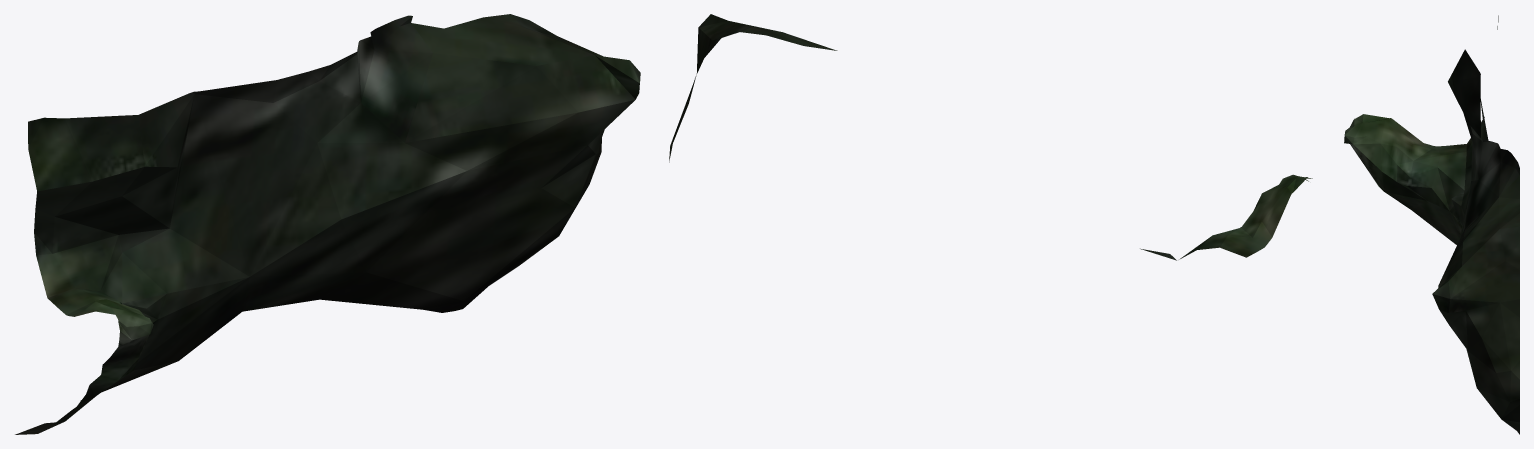
3 views of the same model, side by side, from view 1: azimuth 30°, elevation 25°; view 2: azimuth 150°, elevation 25°; view 3: azimuth 270°, elevation 25° (orthographic). The views are drawn at different scales.
Size of the model in its own units: 0.6782 by 0.3646 by 0.2212.
Materials: 1 (1 with a texture image).
